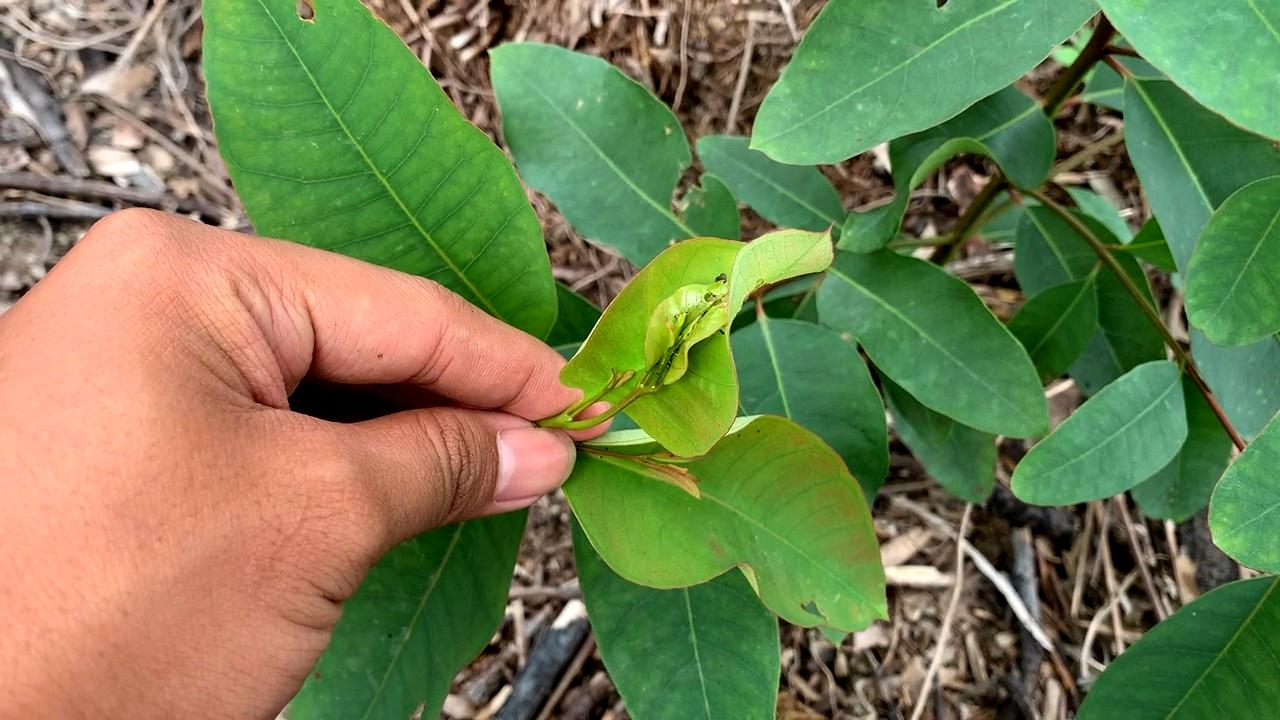Leaf Roller - Leaf: (552, 213, 852, 466)
